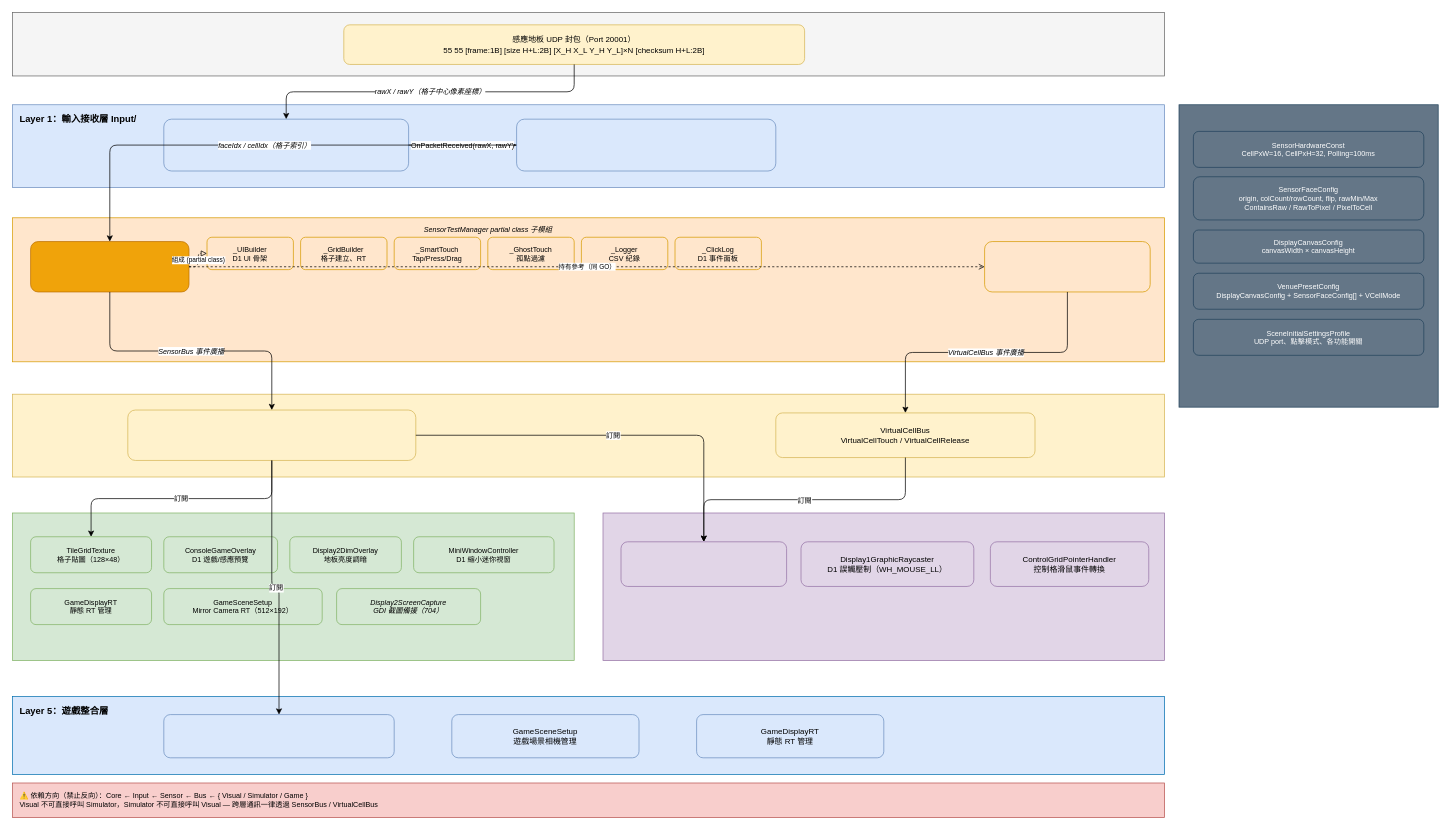
Image size: 1451x830. Some labels were removed from this diagram. Here are the shapes that lost their labels. From the top down, the box of each, then its label:
(12, 12, 1165, 76): Layer 0：硬體 / 外部
(163, 118, 409, 171): UdpSensorReceiver 背景執行緒接收 + checksum 驗證 → Queue.Enqueue(rawX, rawY)
(516, 118, 776, 171): SensorFaceRouter 面分類 + 座標轉換 + 鎖定過濾 → DispatchSensorCell(faceIdx, col, row)
(30, 241, 189, 292): SensorTestManager 主控：場域切換、格子管理
(984, 241, 1150, 292): VirtualCellManager 多格合一 VCell 模式（選用）
(1178, 104, 1438, 407): 資料定義層 Core/ — ScriptableObject（各層共享，不含邏輯）
(12, 217, 1165, 362): Layer 2：感應邏輯層 Sensor/
(127, 409, 416, 460): SensorBus Touch / Tap / PressStart / PressEnd / Drag + Canvas* 系列（全畫布像素 x / y）
(12, 393, 1165, 477): Layer 3：事件 Bus 層 Core/
(620, 541, 787, 586): SensorClickSimulator Listen / PostMessage / SendInput
(12, 512, 574, 661): Layer 4a：視覺輸出層 Visual/
(602, 512, 1165, 661): Layer 4b：點擊模擬層 Simulator/
(163, 714, 394, 758): SensorBridgeToPassPosition SensorBus 觸碰 → 水波座標平滑
